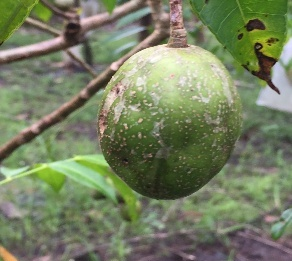Coc: (99, 42, 242, 200)
